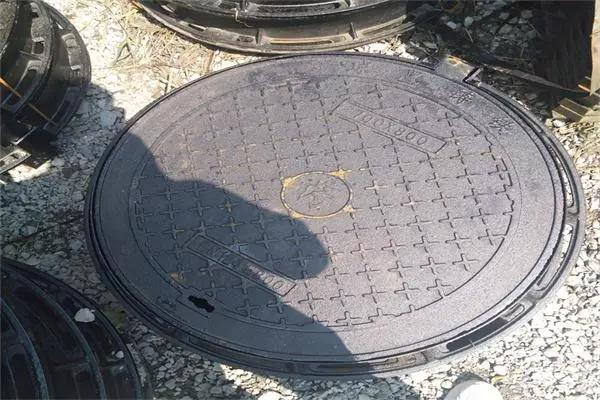wellcover: (78, 49, 591, 377)
